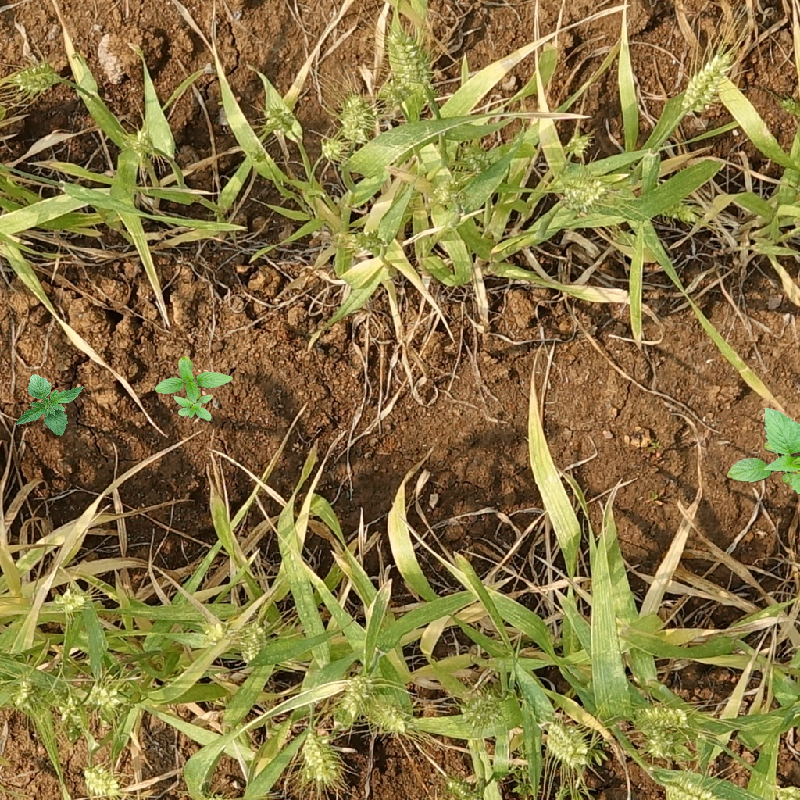spikelet: (678, 50, 733, 115), (386, 26, 429, 90), (543, 719, 592, 769), (332, 671, 374, 727), (299, 730, 341, 785), (646, 196, 705, 228), (337, 90, 373, 142), (559, 175, 609, 212), (12, 58, 61, 95), (633, 702, 691, 732), (459, 689, 503, 728), (368, 698, 412, 736), (261, 101, 301, 141), (5, 671, 44, 712), (662, 777, 734, 799), (236, 619, 270, 664), (81, 762, 122, 799), (428, 164, 460, 210), (344, 226, 388, 258), (51, 585, 89, 619), (456, 141, 491, 176), (85, 681, 123, 713), (123, 126, 157, 161), (643, 729, 680, 758), (317, 133, 349, 163), (443, 776, 480, 800), (564, 129, 594, 158), (767, 782, 799, 800)
weed: (727, 408, 800, 495), (155, 356, 233, 421), (10, 374, 85, 437)
